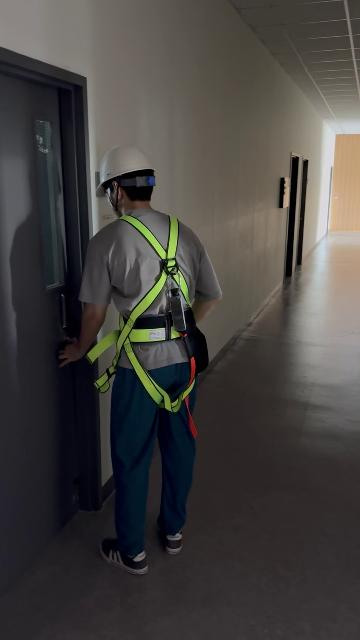helmet_worn: (95, 143, 156, 198)
shoe_not_worn: (100, 537, 147, 575), (156, 515, 183, 555)
vest_worn: (88, 218, 200, 413)
